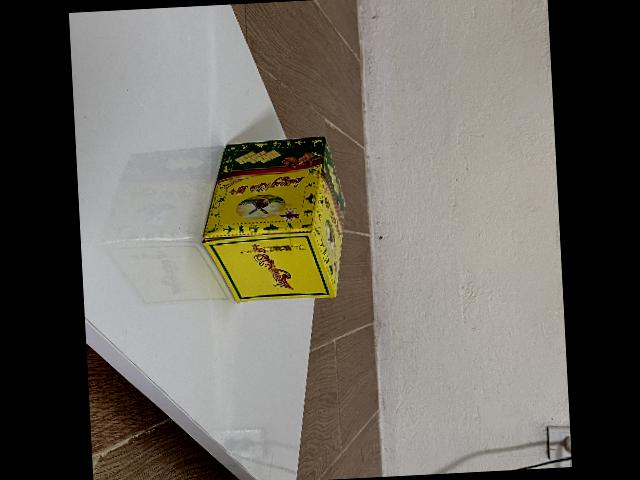luong_kho: (199, 136, 342, 303)
